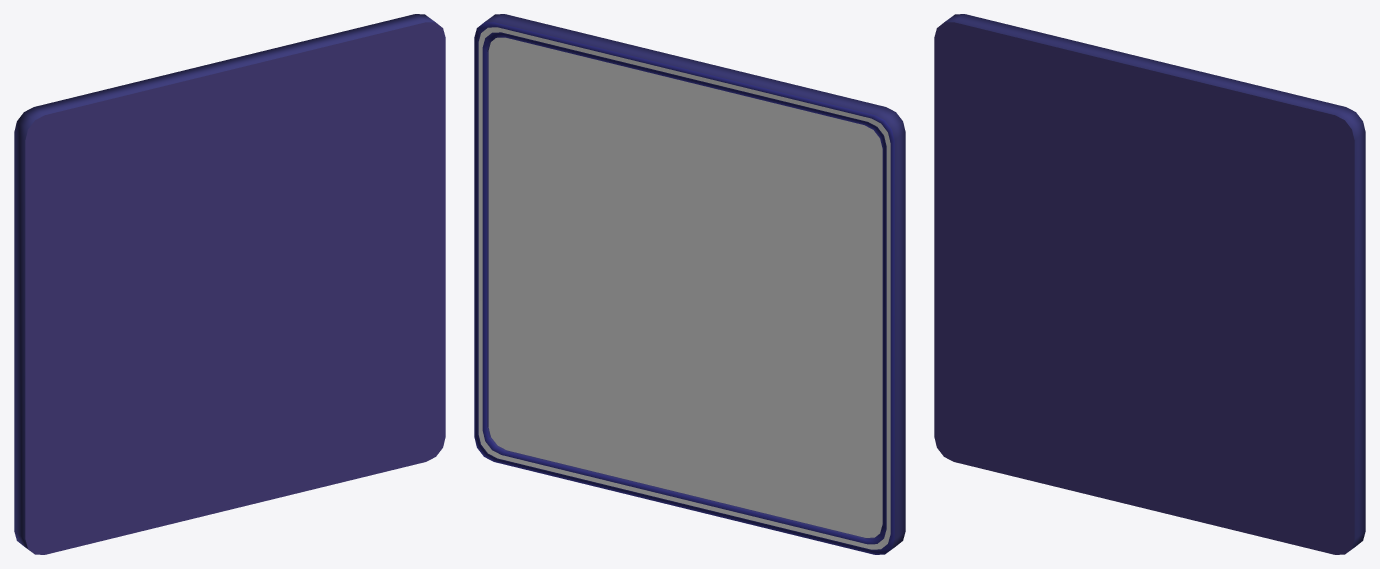
The model's file is basic.glb.
3 renders of one model, left to right at view 1: azimuth 30°, elevation 25°; view 2: azimuth 150°, elevation 25°; view 3: azimuth 330°, elevation 25°, orthographic.
Visible parts, largest first — view 1: PictureFrame.002; view 2: PictureFrame.002; view 3: PictureFrame.002.
Part boxes in pixels (x1,y1,x2,y2): PictureFrame.002: (14, 14, 445, 554); PictureFrame.002: (474, 14, 905, 554); PictureFrame.002: (934, 14, 1365, 554).
Size of the model in its own units: 1.06 by 1.06 by 0.0488.
3 materials, 1 textured.
